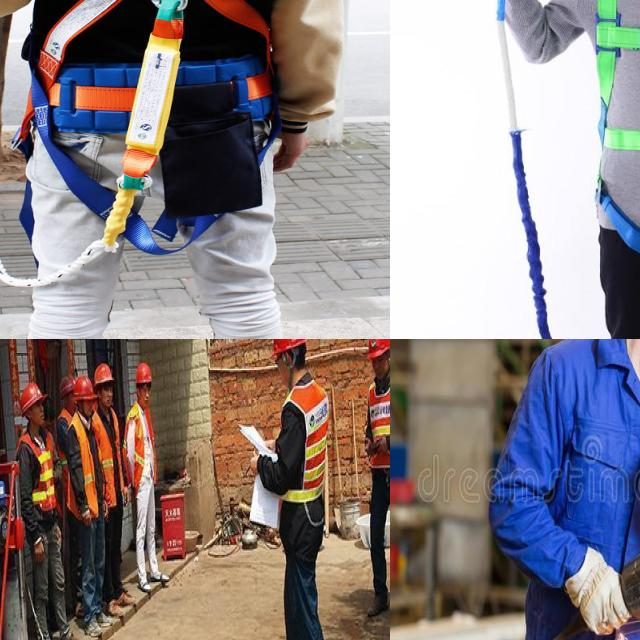Harness: (24, 0, 312, 249), (588, 0, 640, 267)
hand_noglove: (248, 446, 262, 482), (29, 534, 45, 564), (261, 432, 278, 460), (374, 434, 390, 457), (81, 501, 92, 529)
head_helmet: (17, 379, 48, 410), (268, 339, 306, 355), (94, 362, 116, 386), (72, 372, 94, 396), (133, 362, 153, 386), (365, 339, 390, 354), (56, 373, 74, 393)
person: (268, 339, 329, 640), (17, 382, 56, 640), (70, 373, 104, 630), (125, 360, 162, 584), (362, 339, 390, 616), (95, 365, 126, 599), (54, 370, 71, 497)
shoes: (148, 566, 170, 590), (94, 609, 118, 630), (84, 614, 102, 640), (135, 576, 154, 598), (57, 632, 89, 640)
vest: (280, 382, 328, 508), (67, 412, 103, 520), (19, 424, 56, 521), (126, 401, 154, 501), (95, 407, 123, 507), (365, 370, 390, 471), (57, 404, 73, 478)
